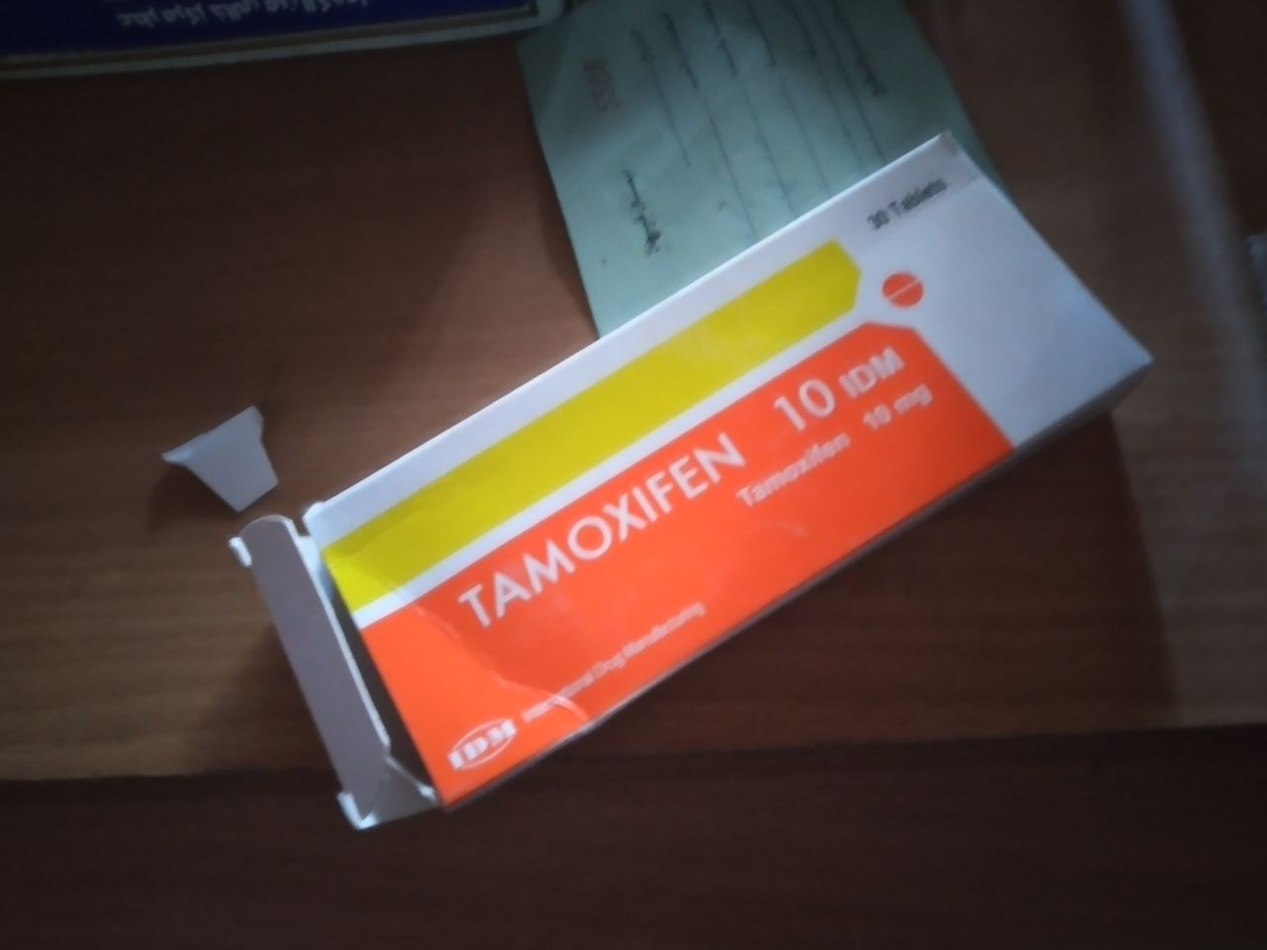Medicine: (299, 106, 1200, 787)
